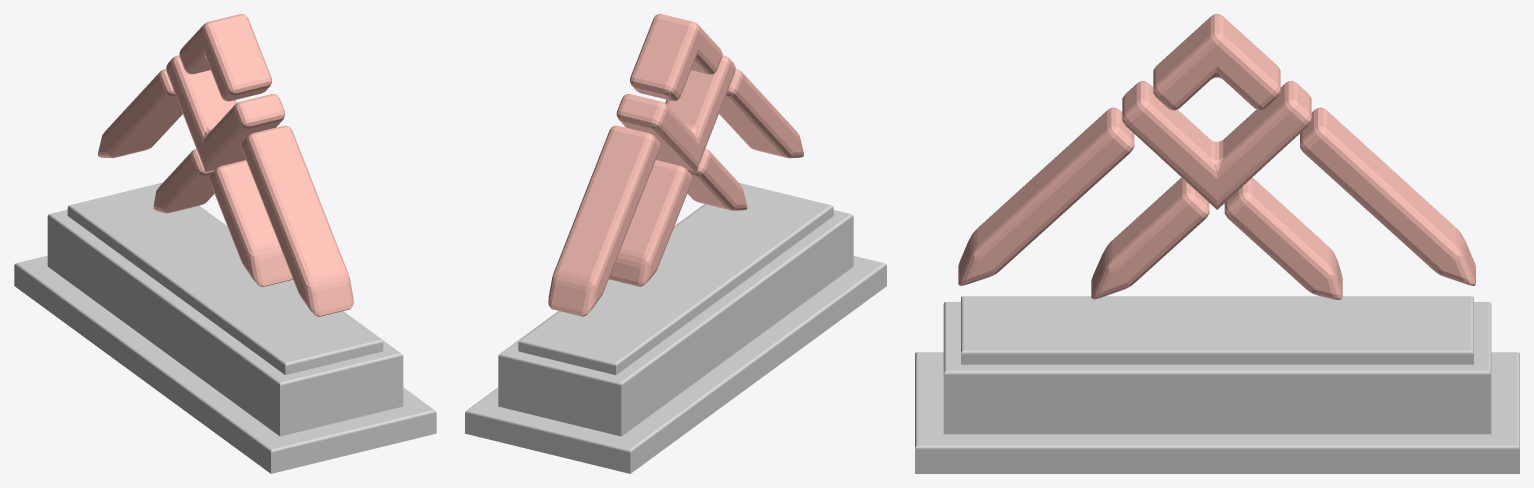
Rendered from tropheeV2.glb.
3 views of the same model, side by side, from view 1: azimuth 30°, elevation 25°; view 2: azimuth 150°, elevation 25°; view 3: azimuth 270°, elevation 25° (orthographic). The views are drawn at different scales.
Parts seen in each view (by area): view 1: Base, LogoV2; view 2: Base, LogoV2; view 3: Base, LogoV2.
Part boxes in pixels (x1,y1,x2,y2): Base: (14,182,436,473); LogoV2: (98,14,353,316); Base: (465,183,886,473); LogoV2: (548,14,803,316); Base: (915,296,1519,473); LogoV2: (958,14,1475,299).
Size of the model in its own units: 1.87 by 3.7 by 5.04.
